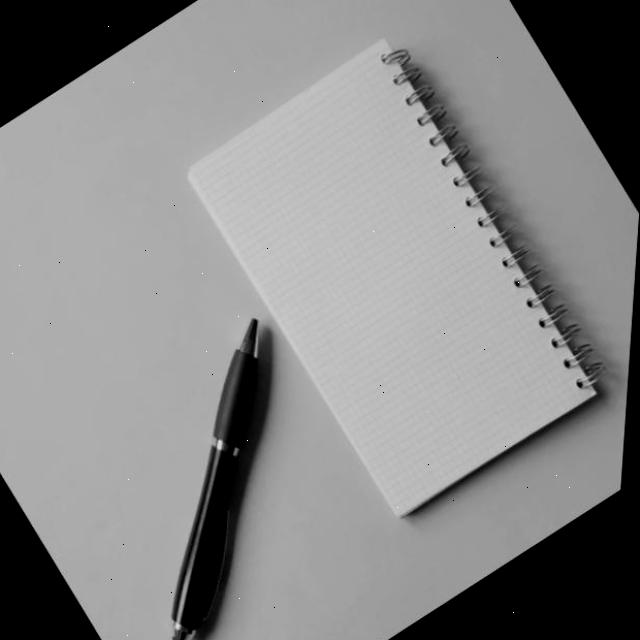pencil: (154, 300, 279, 640)
